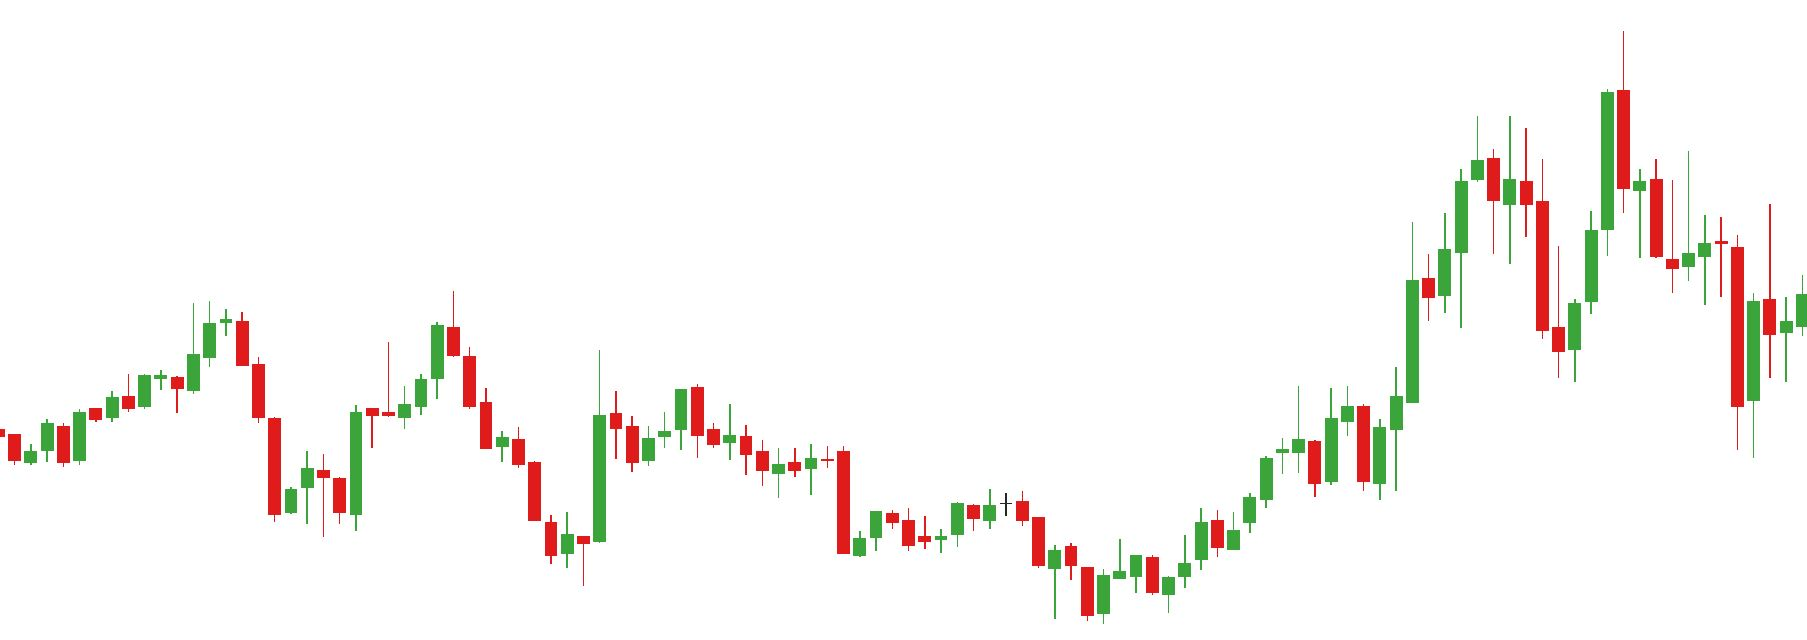buy: (1437, 228, 1585, 381), (1305, 427, 1391, 505)
sell: (1467, 30, 1635, 217)
